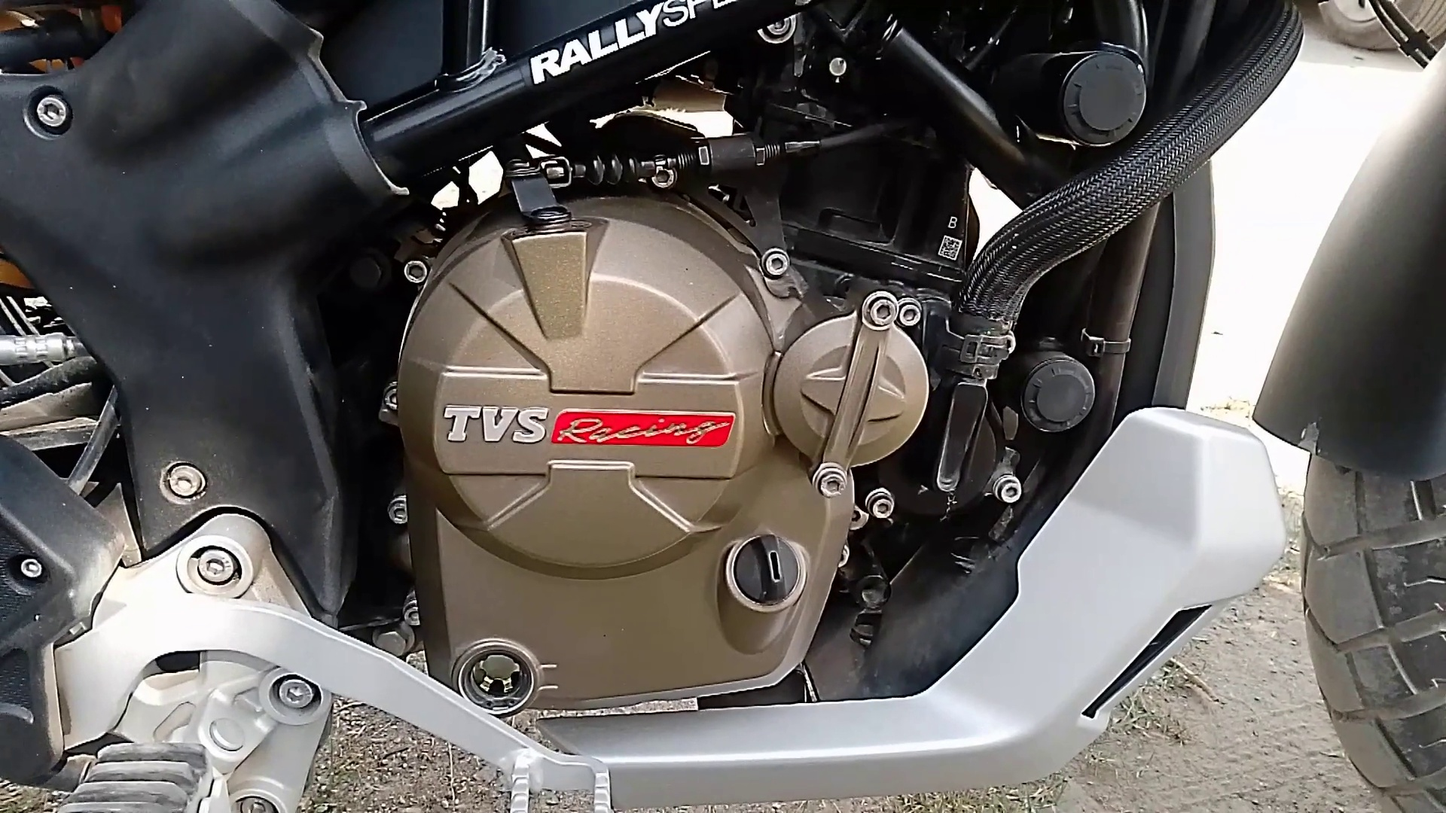bike-engine: (394, 183, 938, 721)
bike-engine-level: (456, 626, 554, 721)
bike-oil-cap: (715, 521, 810, 610)
